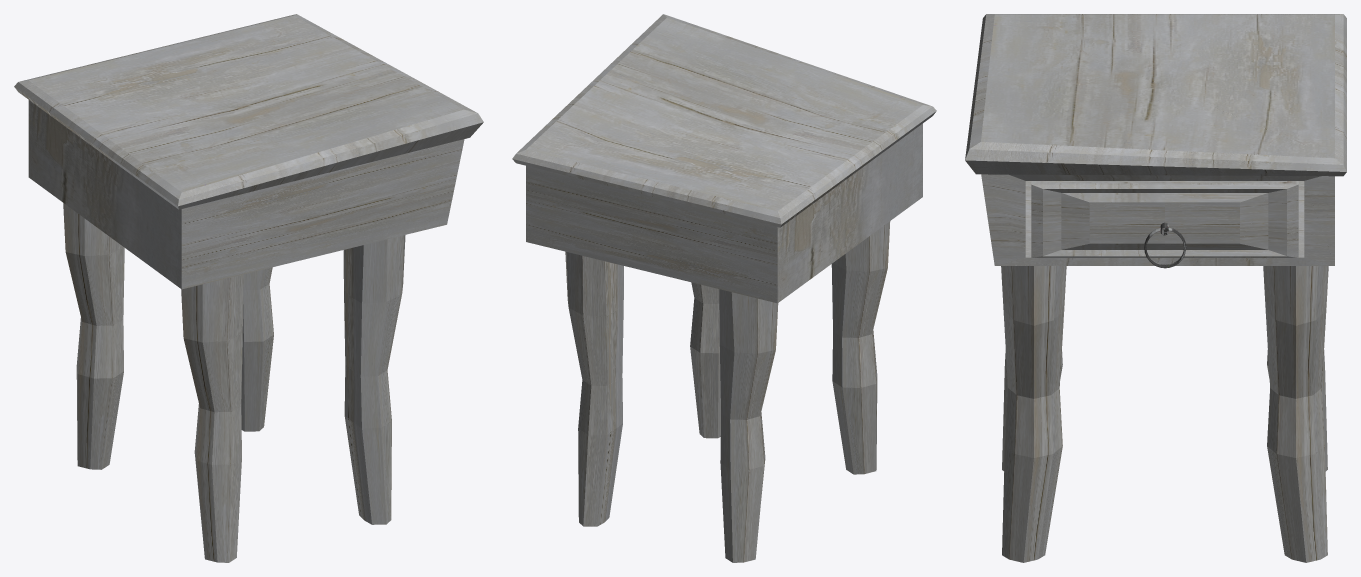
File: Nighttable.glb
3 views of the same model, side by side, from view 1: azimuth 30°, elevation 25°; view 2: azimuth 150°, elevation 25°; view 3: azimuth 270°, elevation 25° (orthographic). The views are drawn at different scales.
Parts seen in each view (by area): view 1: Körper, Beine; view 2: Körper, Beine; view 3: Körper, Beine, Schublade, Halterung.
Boxes of the visible parts, bbox=[...] form: Körper: bbox=[14, 14, 483, 289]; Beine: bbox=[63, 203, 405, 562]; Körper: bbox=[512, 14, 936, 303]; Beine: bbox=[565, 221, 890, 562]; Körper: bbox=[965, 14, 1346, 265]; Beine: bbox=[1001, 266, 1328, 562]; Schublade: bbox=[1031, 181, 1298, 257]; Halterung: bbox=[1144, 222, 1186, 268].
Bounding box in the file's own units: 0.6471 × 0.8408 × 0.6463.
3 materials, 3 textured.
